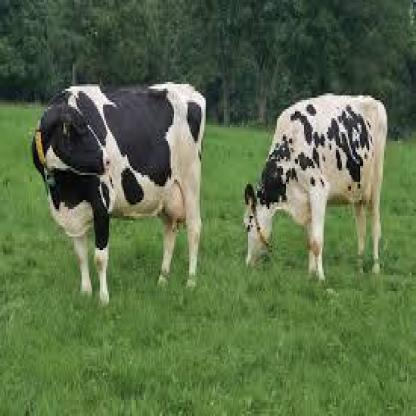cow: (30, 82, 206, 304), (243, 93, 388, 284)
